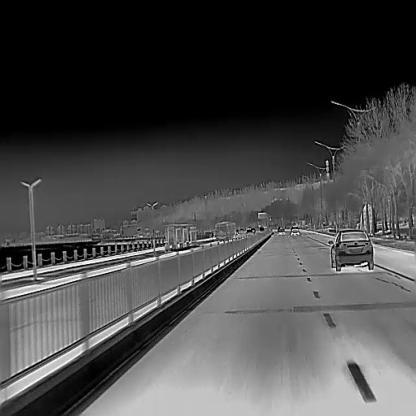car: (326, 227, 374, 271), (213, 219, 237, 243), (289, 223, 300, 235), (245, 225, 256, 237), (277, 225, 286, 235)
